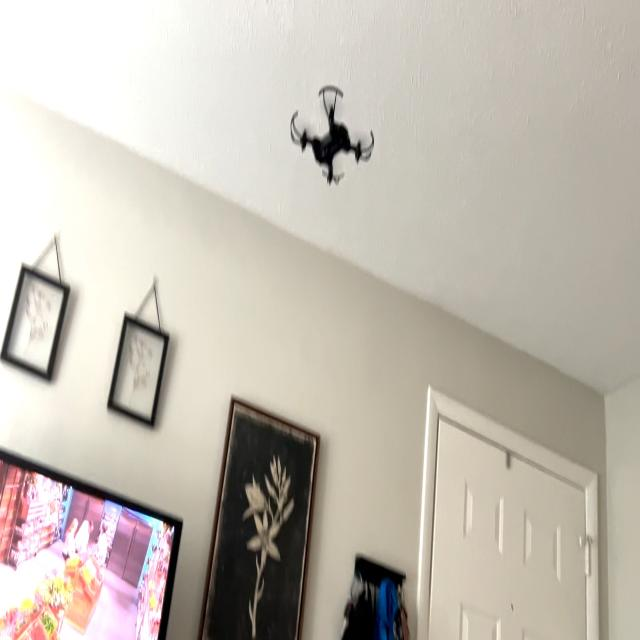drone: (282, 66, 382, 197)
